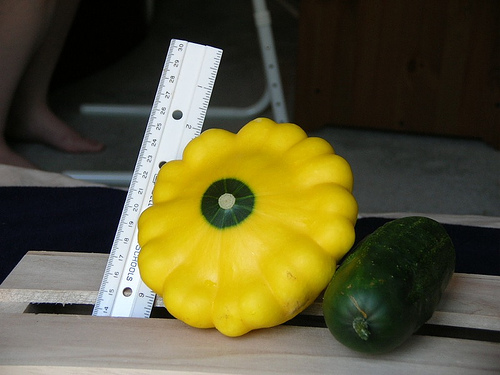cucumber: (323, 215, 458, 354)
